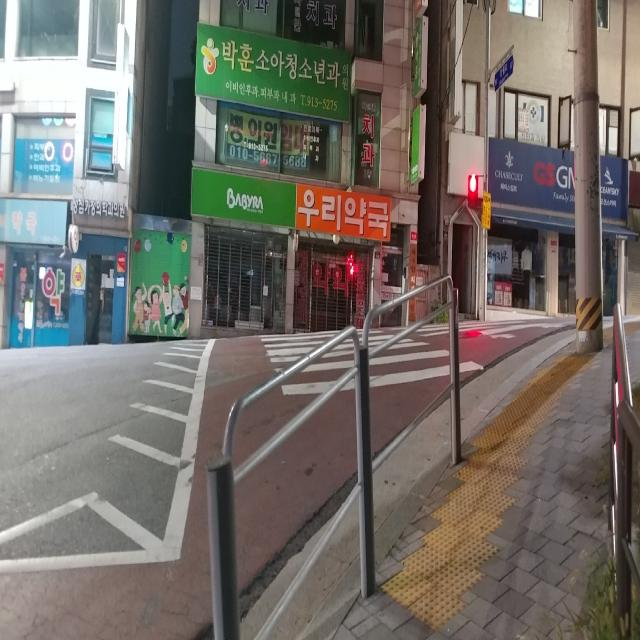빨간불: (469, 174, 478, 212)
횡단보도: (258, 320, 564, 396)
